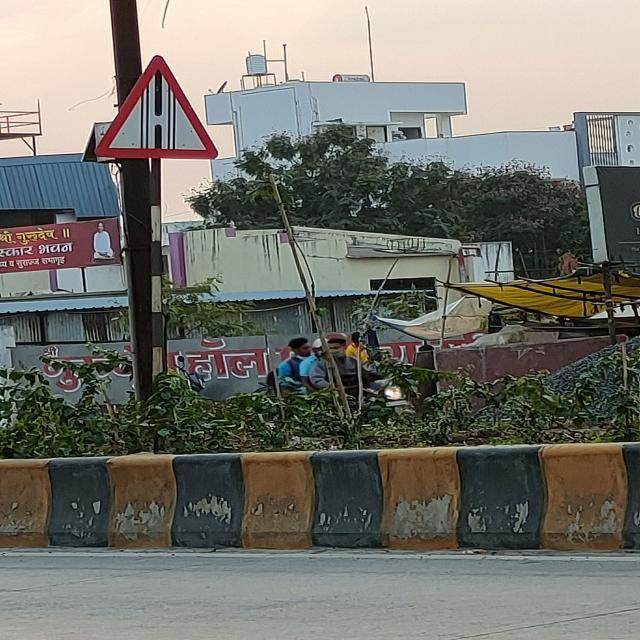gap in median: (91, 52, 220, 164)
